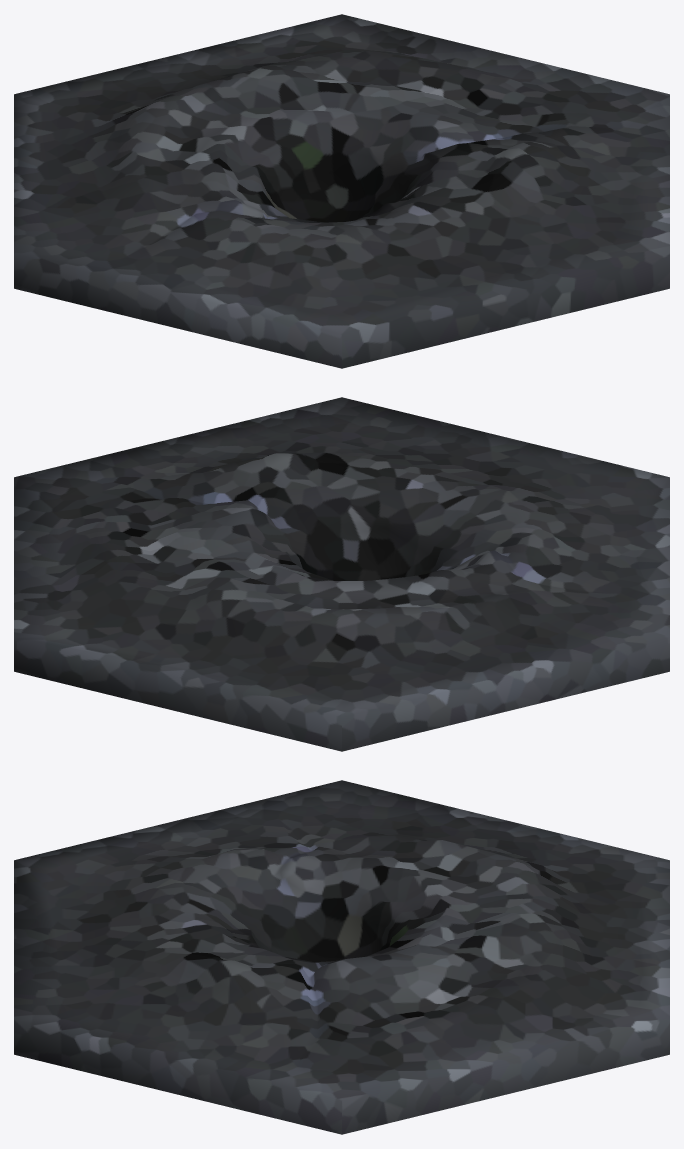
File: HexTop_DiamondGround.fbx
3 renders of one model, top to bottom at view 1: azimuth 30°, elevation 25°; view 2: azimuth 150°, elevation 25°; view 3: azimuth 270°, elevation 25°, orthographic.
Parts seen in each view (by area): view 1: HexTop_DiamondGround; view 2: HexTop_DiamondGround; view 3: HexTop_DiamondGround.
Part boxes in pixels (x1,y1,x2,y2): HexTop_DiamondGround: [14, 14, 669, 368]; HexTop_DiamondGround: [14, 397, 669, 751]; HexTop_DiamondGround: [14, 780, 669, 1134].
Bounding box in the file's own units: 100 × 11.29 × 86.6.
